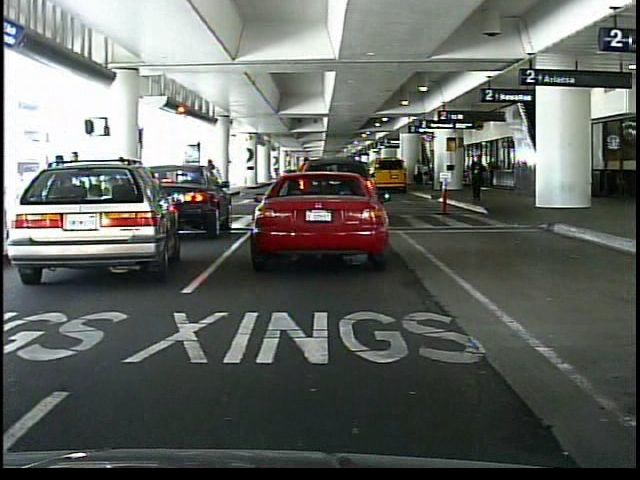person: (70, 148, 90, 225), (204, 157, 225, 213), (293, 155, 311, 209), (469, 153, 488, 202), (413, 155, 426, 192)
